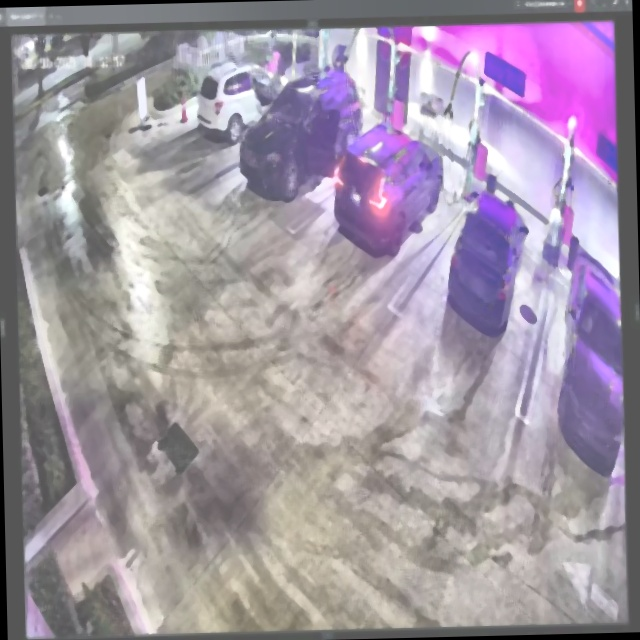Car: (241, 70, 364, 199), (334, 120, 444, 254), (449, 186, 527, 335)
